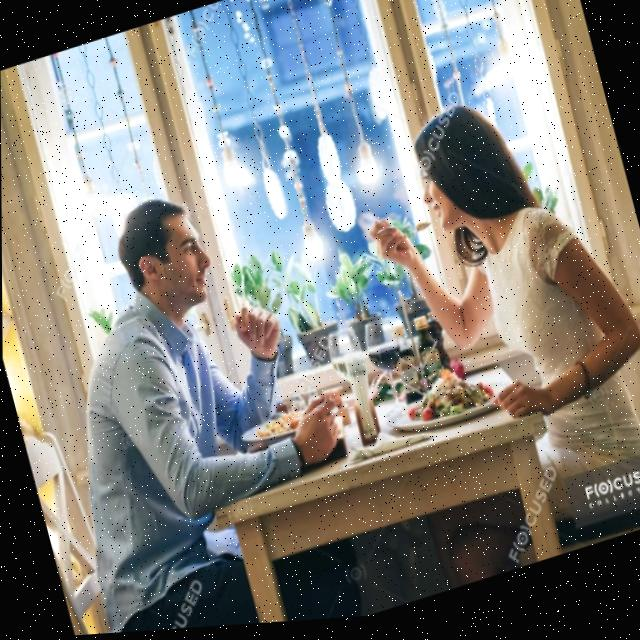eating-person: (273, 34, 640, 616), (1, 122, 392, 640)
